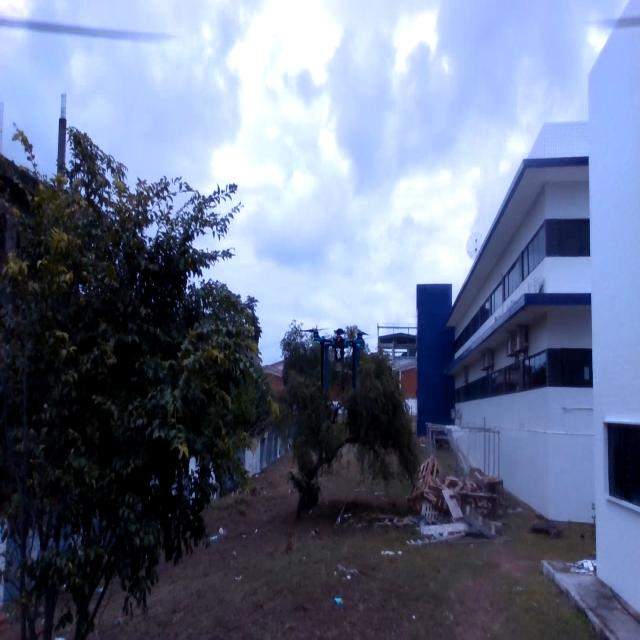-uav-: (284, 308, 391, 427)
